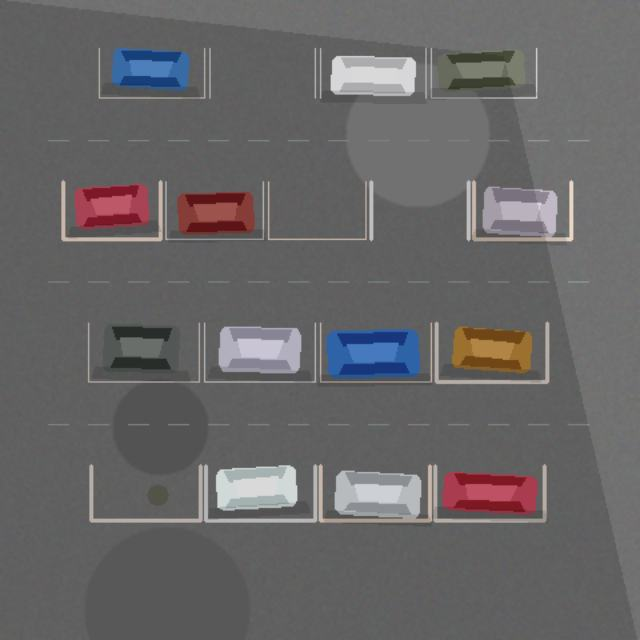space-empty: (91, 465, 200, 520), (268, 181, 365, 239), (371, 181, 468, 239), (209, 48, 315, 97)
space-occupied: (88, 323, 199, 381), (204, 323, 315, 381), (320, 323, 431, 381), (436, 323, 547, 381), (205, 465, 315, 520), (320, 465, 429, 520), (435, 465, 544, 520), (165, 181, 263, 239), (473, 181, 571, 239), (63, 181, 160, 239), (99, 48, 204, 97), (320, 48, 425, 97), (431, 48, 536, 97)
